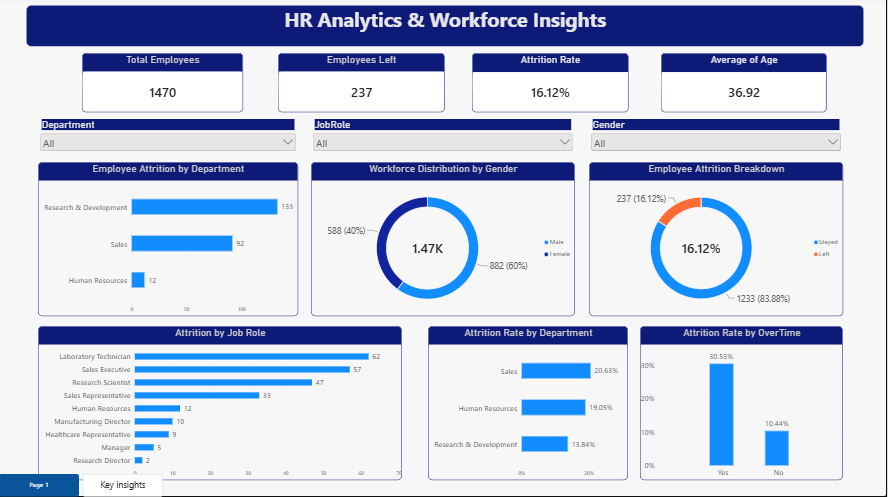

The page's visual inventory and layout, read from the dashboard file:
{"tool":"powerbi","page":{"name":"Page 1","canvas":[1920,1080],"ordinal":0},"visuals":[{"type":"cardVisual","title":"Total Employees","fields":{"Data":["WA_Fn-UseC_-HR-Employee-Attrition.Total Employees"]},"box":[180,120,347.5,127.5],"z":0},{"type":"cardVisual","title":"Employees Left","fields":{"Data":["WA_Fn-UseC_-HR-Employee-Attrition.Employees Left"]},"box":[602.5,120,360,127.5],"z":1000},{"type":"cardVisual","title":"Attrition Rate","fields":{"Data":["WA_Fn-UseC_-HR-Employee-Attrition.Attrition Rate"]},"box":[1022.5,120,337.5,127.5],"z":2000},{"type":"cardVisual","title":"Average of Age","fields":{"Data":["Avg(WA_Fn-UseC_-HR-Employee-Attrition.Age)"]},"box":[1430,120,357.5,127.5],"z":3000},{"type":"clusteredBarChart","title":"Employee Attrition by Department","fields":{"Category":["WA_Fn-UseC_-HR-Employee-Attrition.Department"],"Y":["WA_Fn-UseC_-HR-Employee-Attrition.Employees Left"]},"box":[84.2,356.4,561.6,332.6],"z":4000},{"type":"donutChart","title":"Workforce Distribution by Gender","fields":{"Category":["WA_Fn-UseC_-HR-Employee-Attrition.Gender"],"Y":["Count(WA_Fn-UseC_-HR-Employee-Attrition.EmployeeNumber)"]},"box":[673.9,356.4,570.2,332.6],"z":5000},{"type":"donutChart","title":"Employee Attrition Breakdown","fields":{"Category":["WA_Fn-UseC_-HR-Employee-Attrition.Attrition Status"],"Y":["Count(WA_Fn-UseC_-HR-Employee-Attrition.EmployeeNumber)"]},"box":[1274.4,356.4,548.6,332.6],"z":6000},{"type":"clusteredBarChart","title":"Attrition by Job Role","fields":{"Category":["WA_Fn-UseC_-HR-Employee-Attrition.JobRole"],"Y":["WA_Fn-UseC_-HR-Employee-Attrition.Employees Left"]},"box":[84.2,710.6,786.2,332.6],"z":7000},{"type":"slicer","fields":{"Values":["WA_Fn-UseC_-HR-Employee-Attrition.Department"]},"box":[84.2,263.5,561.6,82.1],"z":8000},{"type":"slicer","fields":{"Values":["WA_Fn-UseC_-HR-Employee-Attrition.Gender"]},"box":[1274.4,263.5,548.6,92.9],"z":9000},{"type":"slicer","fields":{"Values":["WA_Fn-UseC_-HR-Employee-Attrition.JobRole"]},"box":[673.9,263.5,570.2,84.2],"z":10000},{"type":"textbox","box":[57.5,17.5,1810,90],"z":11000},{"type":"clusteredColumnChart","fields":{"Category":["WA_Fn-UseC_-HR-Employee-Attrition.OverTime"],"Y":["WA_Fn-UseC_-HR-Employee-Attrition.Attrition Rate"]},"box":[1384.6,710.6,438.5,332.6],"z":12000},{"type":"clusteredBarChart","fields":{"Category":["WA_Fn-UseC_-HR-Employee-Attrition.Department"],"Y":["WA_Fn-UseC_-HR-Employee-Attrition.Attrition Rate"]},"box":[926.6,710.6,432,332.6],"z":12001},{"type":"pageNavigator","box":[0,1030.3,354.2,49.7],"z":12002}]}

Visuals, with their boxes in screenshot pixels (x1, y1, x2, y2), scaled from the page's 1920x1080 canvas onto the 888x497 screenshot:
"Total Employees" cardVisual: (83,55,244,114)
"Employees Left" cardVisual: (279,55,445,114)
"Attrition Rate" cardVisual: (473,55,629,114)
"Average of Age" cardVisual: (661,55,827,114)
"Employee Attrition by Department" clusteredBarChart: (39,164,299,317)
"Workforce Distribution by Gender" donutChart: (312,164,575,317)
"Employee Attrition Breakdown" donutChart: (589,164,843,317)
"Attrition by Job Role" clusteredBarChart: (39,327,403,480)
slicer - WA_Fn-UseC_-HR-Employee-Attrition.Department: (39,121,299,159)
slicer - WA_Fn-UseC_-HR-Employee-Attrition.Gender: (589,121,843,164)
slicer - WA_Fn-UseC_-HR-Employee-Attrition.JobRole: (312,121,575,160)
textbox: (27,8,864,49)
clusteredColumnChart - WA_Fn-UseC_-HR-Employee-Attrition.OverTime x WA_Fn-UseC_-HR-Employee-Attrition.Attrition Rate: (640,327,843,480)
clusteredBarChart - WA_Fn-UseC_-HR-Employee-Attrition.Department x WA_Fn-UseC_-HR-Employee-Attrition.Attrition Rate: (429,327,628,480)
pageNavigator: (0,474,164,496)
